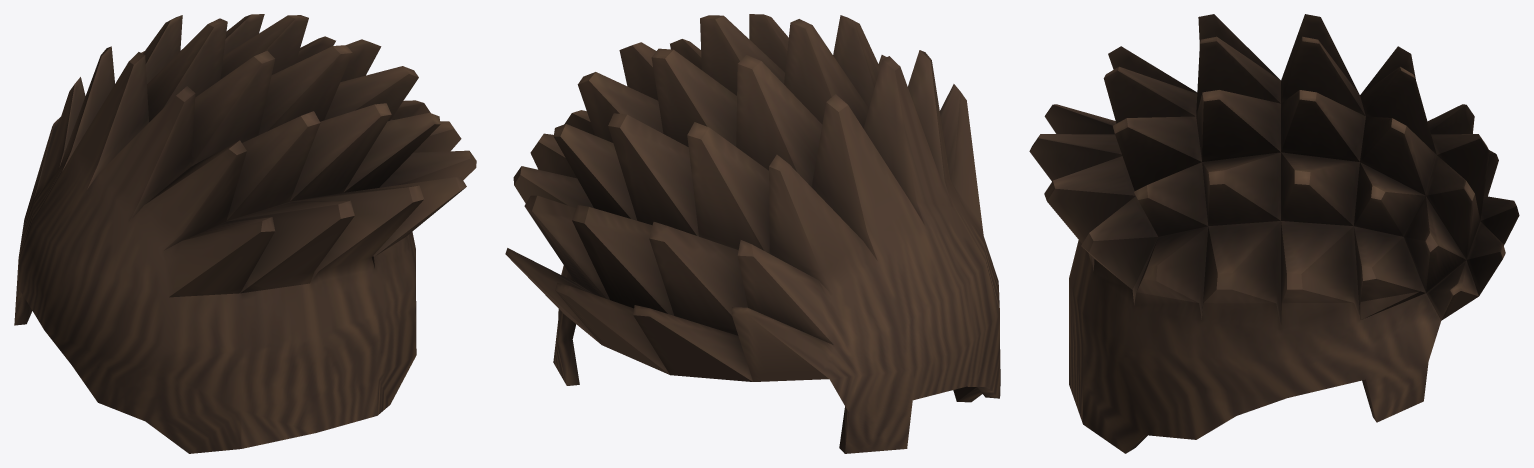
3 views of the same model, side by side, from view 1: azimuth 30°, elevation 25°; view 2: azimuth 150°, elevation 25°; view 3: azimuth 270°, elevation 25° (orthographic). The views are drawn at different scales.
Visible parts, largest first — view 1: Mesh; view 2: Mesh; view 3: Mesh.
Boxes of the visible parts, x1,y1,x2,y2 form: Mesh: [14, 14, 476, 453]; Mesh: [505, 14, 1000, 453]; Mesh: [1029, 14, 1519, 453].
Bounding box in the file's own units: 1.21 × 1.02 × 1.23.
